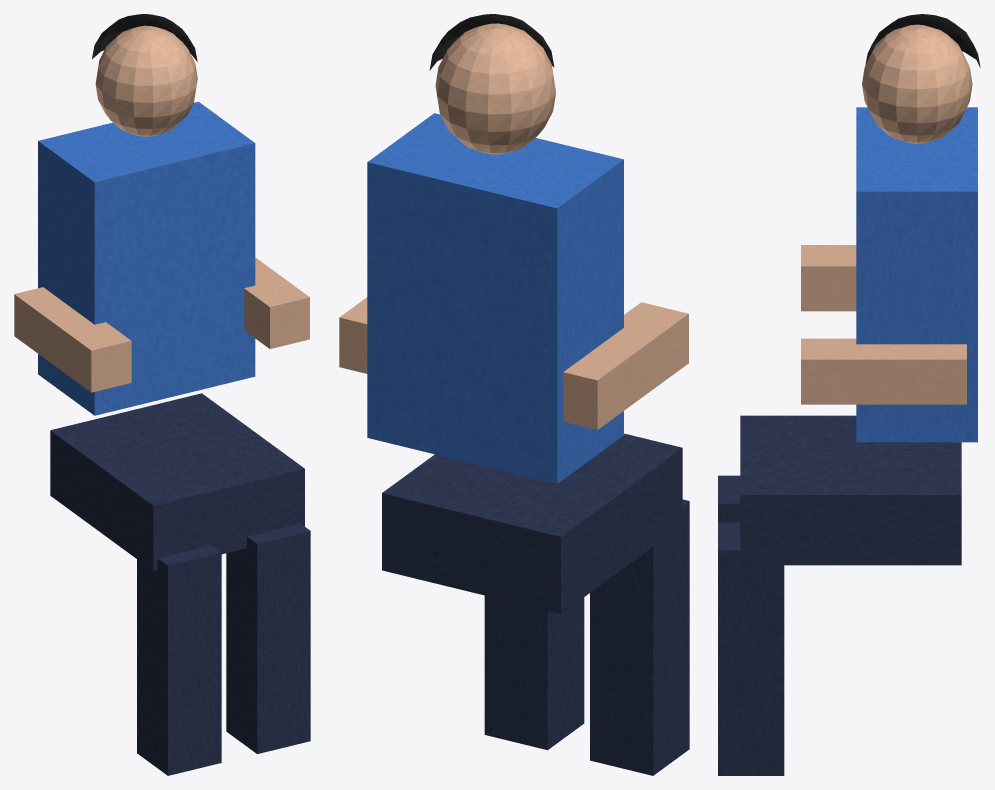
The model's file is Espectador1.obj.
3 views of the same model, side by side, from view 1: azimuth 30°, elevation 25°; view 2: azimuth 150°, elevation 25°; view 3: azimuth 270°, elevation 25° (orthographic). The views are drawn at different scales.
Size of the model in its own units: 0.49 by 1.43 by 0.475.
Materials: 1 (1 with a texture image).
